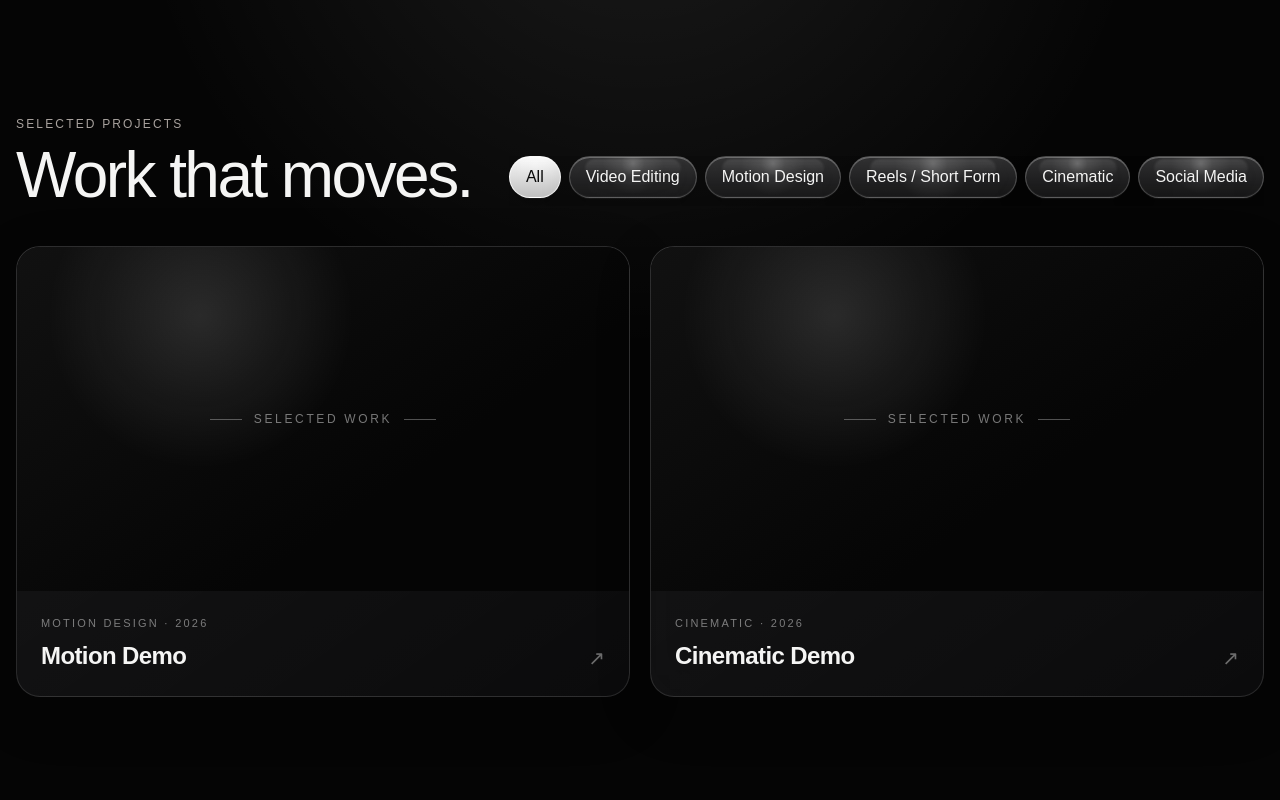
Test: filters selected projects by category
Click the button "Motion Design": coordinates (773, 177) 705,156 -> 841,198
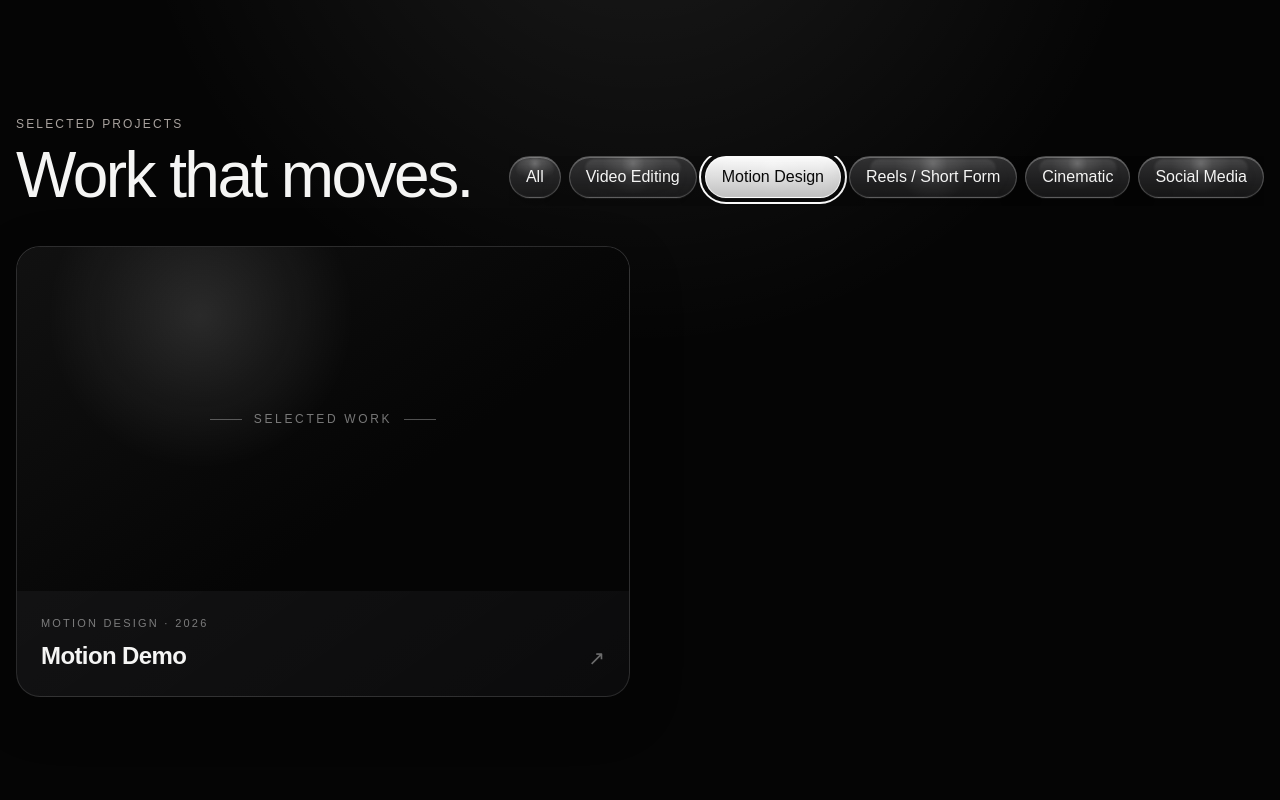
Expected: the heading "Motion Demo" is shown, 41,640 -> 208,672
Expected: the link "Cinematic Demo" is gone
